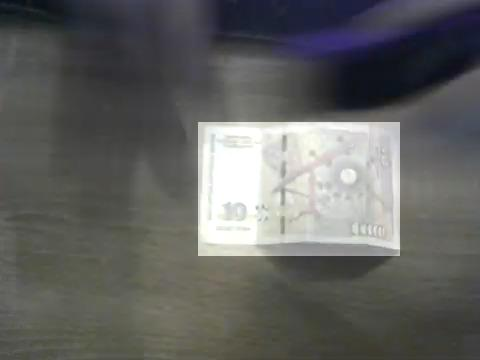10leva: (198, 122, 400, 256)
